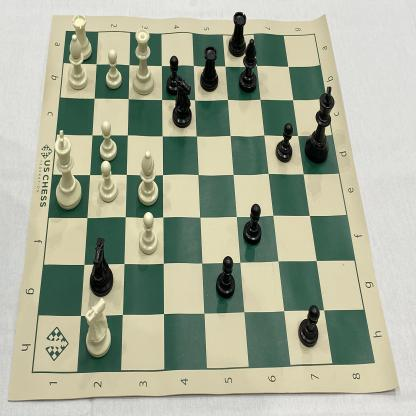black-bishop: (238, 37, 262, 95)
black-king: (303, 81, 337, 168)
black-knight: (86, 235, 119, 298), (170, 75, 197, 132)
black-pawn: (213, 249, 239, 302), (295, 301, 321, 351), (242, 198, 264, 249), (275, 119, 295, 165), (164, 52, 184, 95)
black-rook: (197, 42, 221, 95), (226, 7, 249, 60)
white-bishop: (62, 33, 92, 93), (134, 146, 162, 208)
white-king: (52, 127, 85, 212)
white-knight: (82, 294, 114, 362)
white-pawn: (135, 210, 161, 263), (94, 157, 122, 205), (95, 119, 120, 162), (103, 44, 125, 91)
white-queen: (129, 24, 158, 100)
white-rook: (69, 13, 96, 69)
